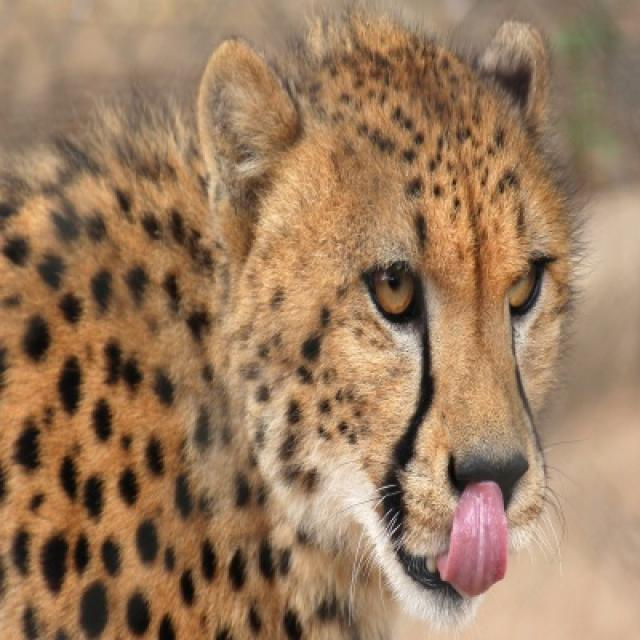Cheetah: (0, 16, 578, 638)
